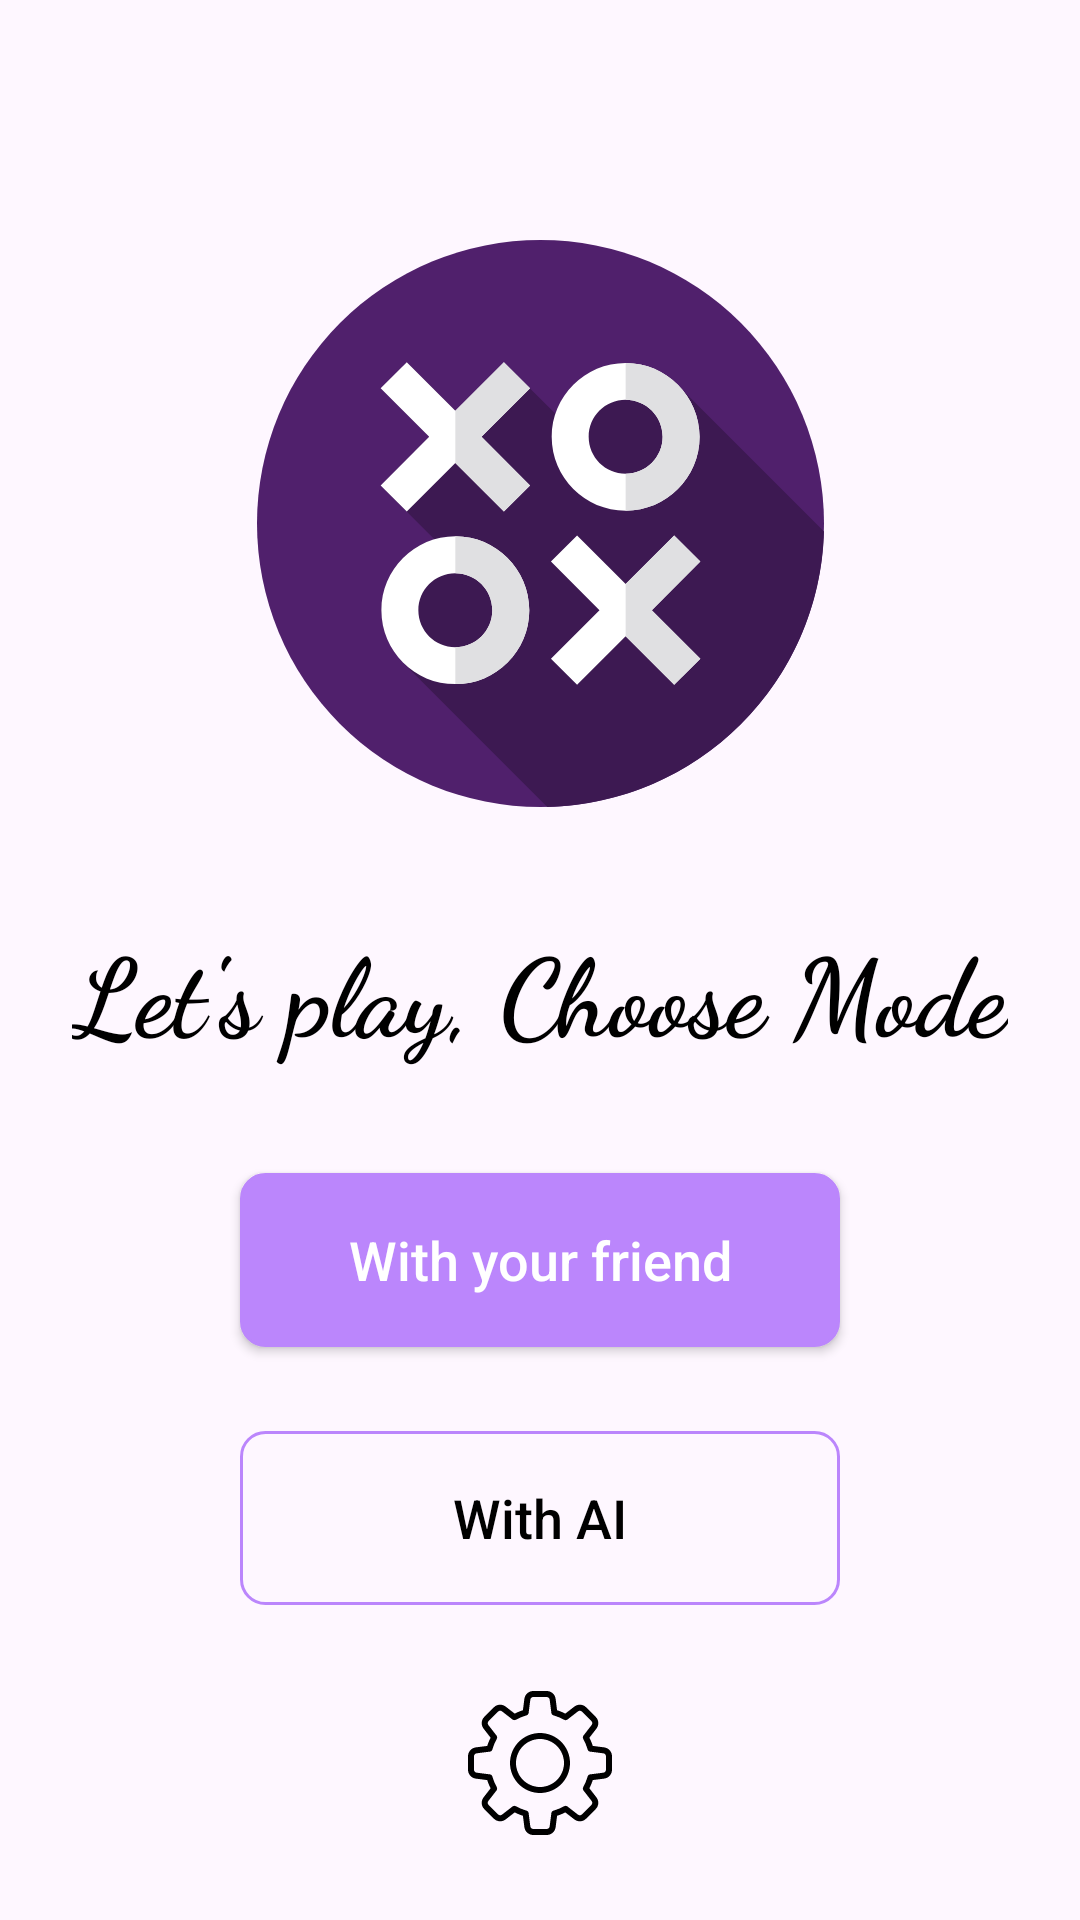

Icons on this 1080*1920 Android screen, each with its box as (x1, y1, x2, y2):
settings: (468, 1691, 612, 1835)
